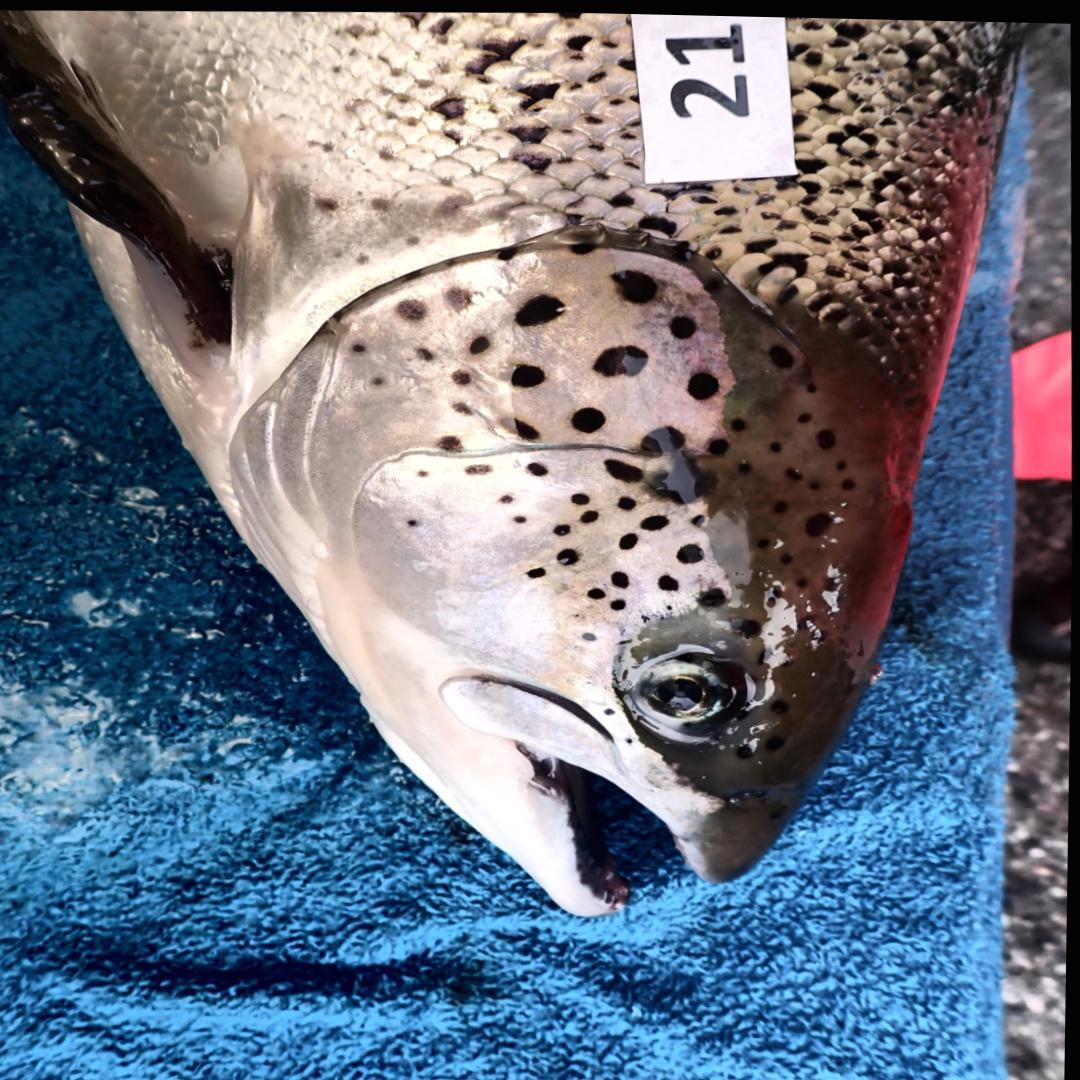spot: (647, 459, 715, 503), (594, 343, 650, 374), (515, 292, 567, 323), (611, 266, 658, 299), (642, 422, 687, 450), (498, 411, 542, 437), (606, 455, 645, 479), (688, 367, 720, 396), (512, 360, 547, 385), (574, 404, 606, 429), (444, 283, 473, 308), (397, 297, 427, 319), (670, 312, 697, 336), (698, 585, 727, 602), (677, 541, 704, 558), (642, 512, 671, 525), (471, 334, 491, 352), (560, 545, 581, 561), (527, 459, 551, 473), (613, 567, 631, 585), (453, 398, 474, 413), (439, 433, 463, 446), (660, 572, 680, 587), (466, 462, 492, 473), (570, 240, 596, 251), (415, 345, 436, 358), (453, 367, 471, 382), (622, 530, 639, 545), (618, 492, 636, 506), (498, 244, 516, 258), (571, 490, 592, 501), (583, 508, 601, 519), (554, 521, 572, 532), (692, 510, 707, 523), (590, 585, 607, 596), (528, 565, 548, 574), (613, 596, 628, 607), (501, 492, 516, 501), (584, 629, 599, 638), (371, 375, 385, 383), (516, 512, 528, 521), (353, 341, 365, 349), (407, 517, 419, 525), (605, 704, 617, 712), (418, 467, 430, 475), (643, 611, 651, 619), (668, 602, 674, 606)
